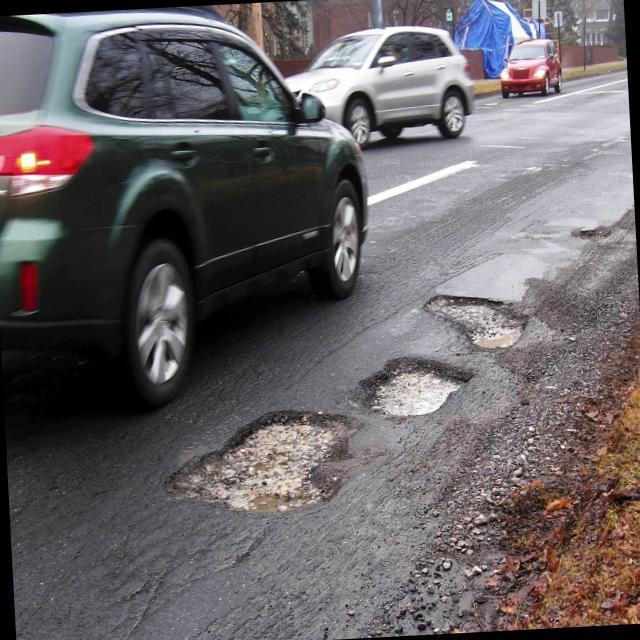Pothole: (178, 404, 354, 516), (353, 344, 482, 418), (424, 290, 534, 354), (567, 216, 625, 248)
